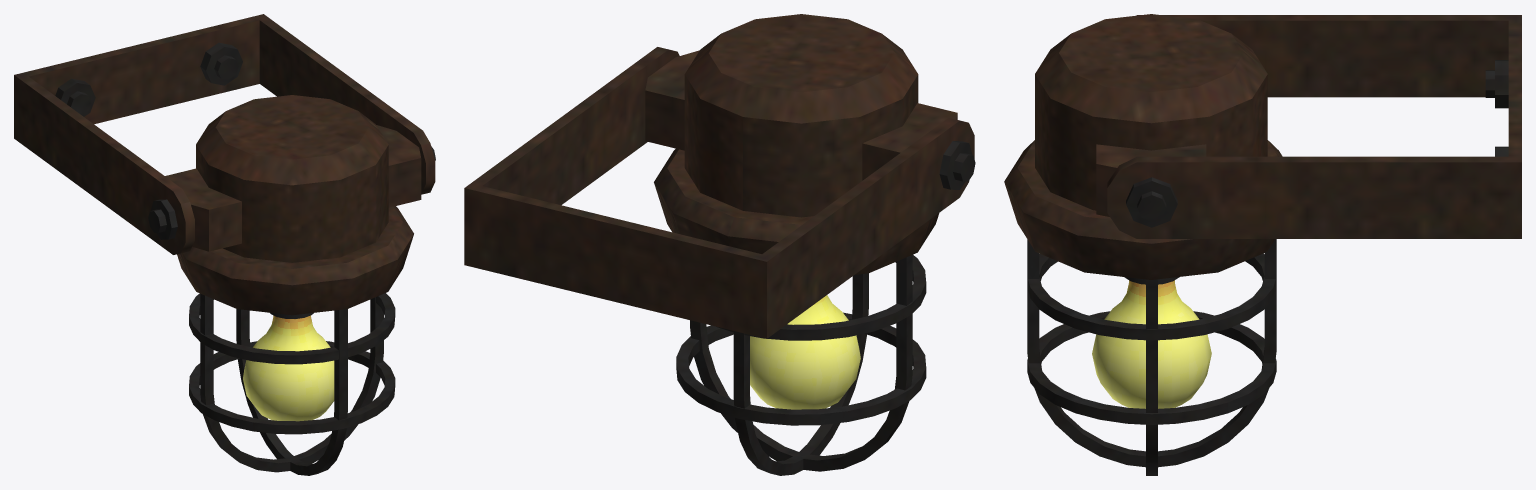
Rendered from lamp_mx_1_a_on.obj.
The picture shows the model from 3 angles, left to right: view 1: azimuth 30°, elevation 25°; view 2: azimuth 150°, elevation 25°; view 3: azimuth 270°, elevation 25°; orthographic projection. The views are drawn at different scales.
Parts seen in each view (by area): view 1: lamp_mx_1_a_on; view 2: lamp_mx_1_a_on; view 3: lamp_mx_1_a_on.
Boxes of the visible parts, left/top/right/bottom form: lamp_mx_1_a_on: left=14, top=14, right=435, bottom=475; lamp_mx_1_a_on: left=464, top=14, right=975, bottom=475; lamp_mx_1_a_on: left=1004, top=14, right=1521, bottom=475.
Bounding box in the file's own units: 0.2245 × 0.2657 × 0.3023.
